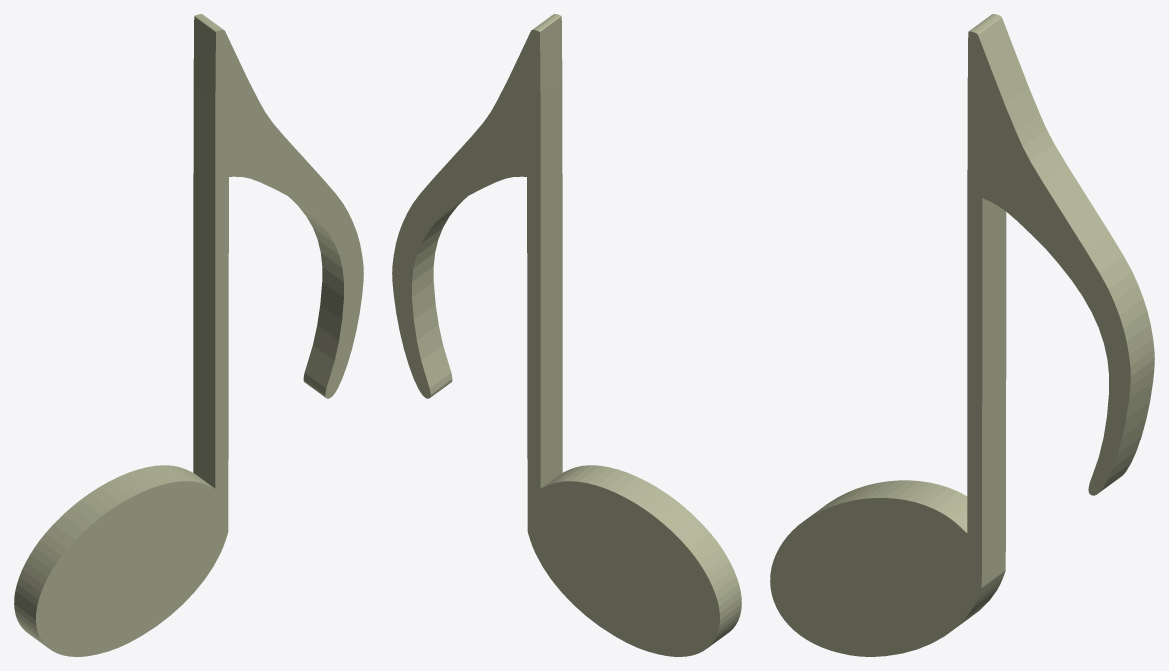
File: tinker.obj
The picture shows the model from 3 angles, left to right: view 1: azimuth 30°, elevation 25°; view 2: azimuth 150°, elevation 25°; view 3: azimuth 330°, elevation 25°; orthographic projection. The views are drawn at different scales.
Visible parts, largest first — view 1: obj_0; view 2: obj_0; view 3: obj_0.
Boxes of the visible parts, left/top/right/bottom form: obj_0: left=14, top=14, right=363, bottom=656; obj_0: left=392, top=14, right=741, bottom=656; obj_0: left=770, top=14, right=1154, bottom=656.
Bounding box in the file's own units: 287 × 496 × 33.
